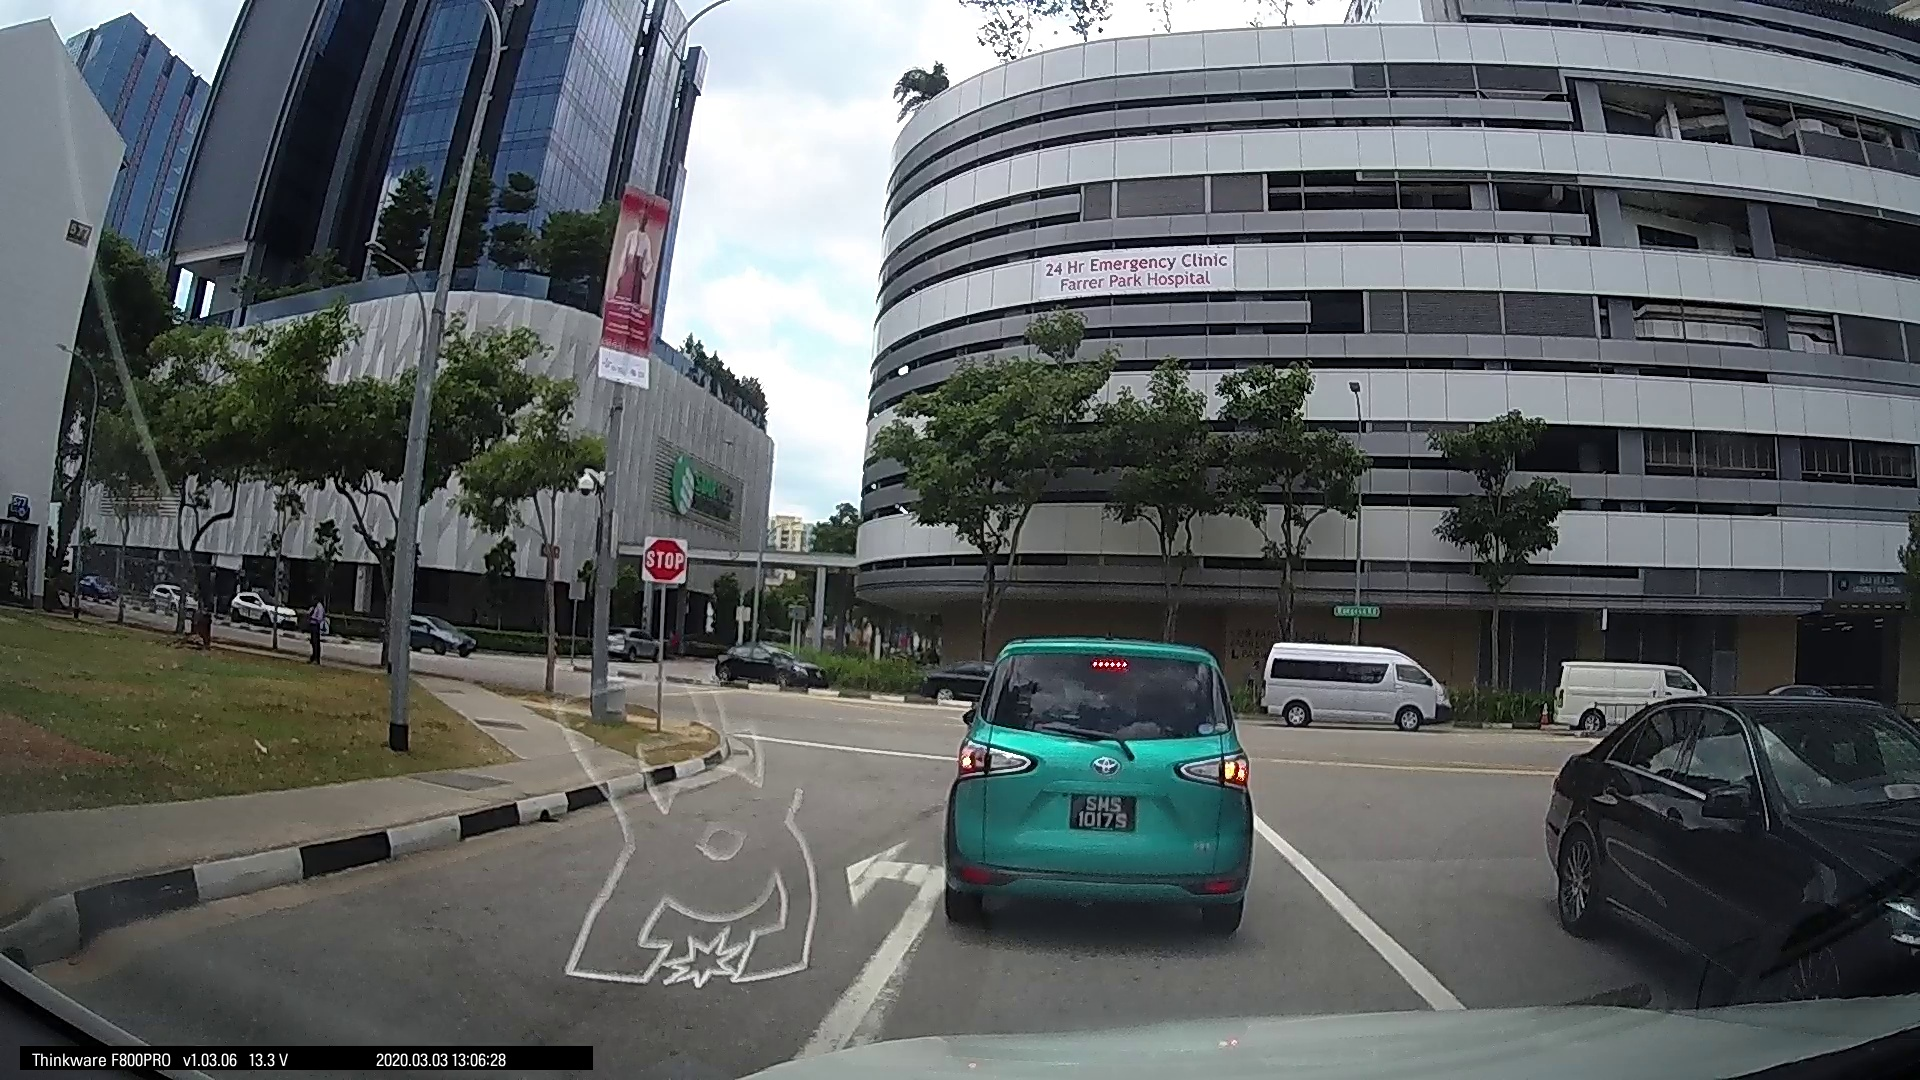Light Vehicle: (1534, 694, 1915, 1009), (934, 618, 1257, 939), (1255, 638, 1455, 735), (1547, 651, 1689, 737), (709, 636, 819, 690), (384, 607, 475, 661)
